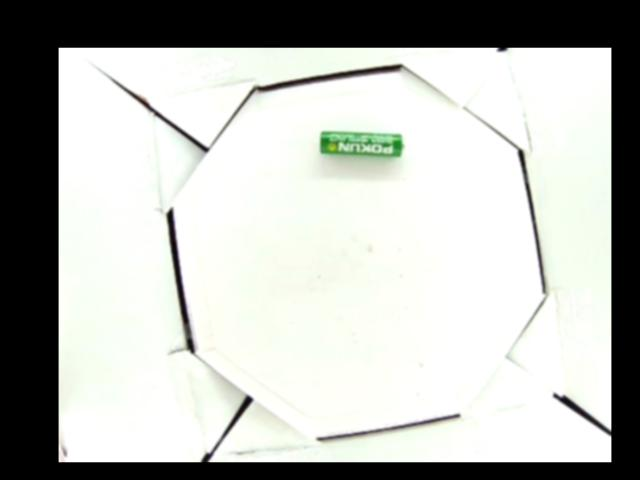Battery: (318, 130, 404, 158)
